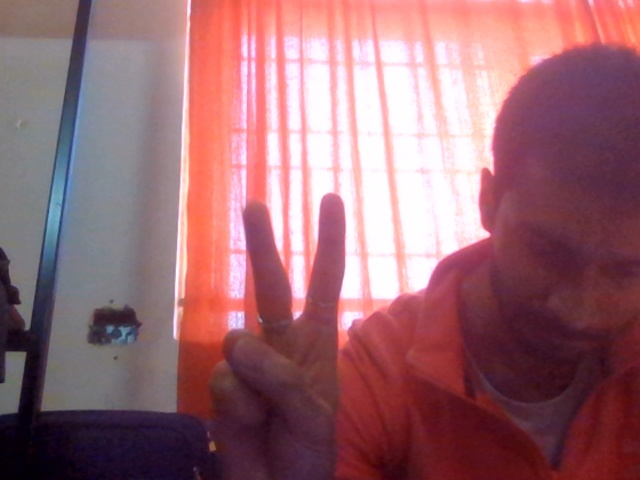V: (176, 182, 479, 480)
